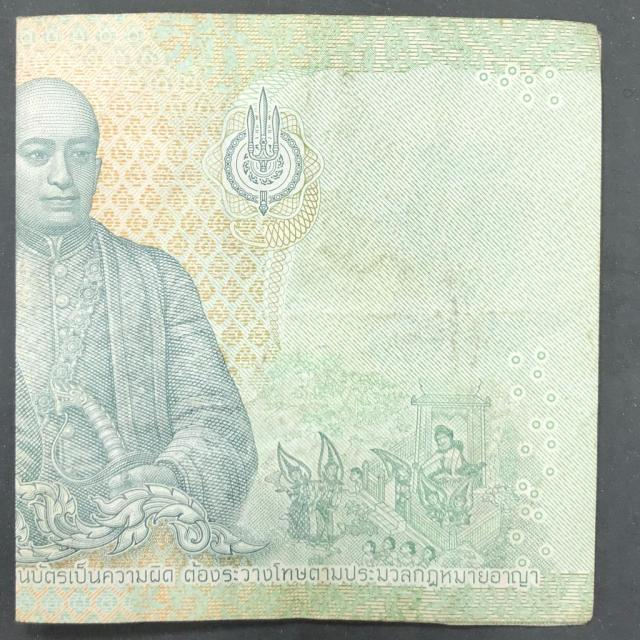THAI20: (15, 13, 601, 626)
